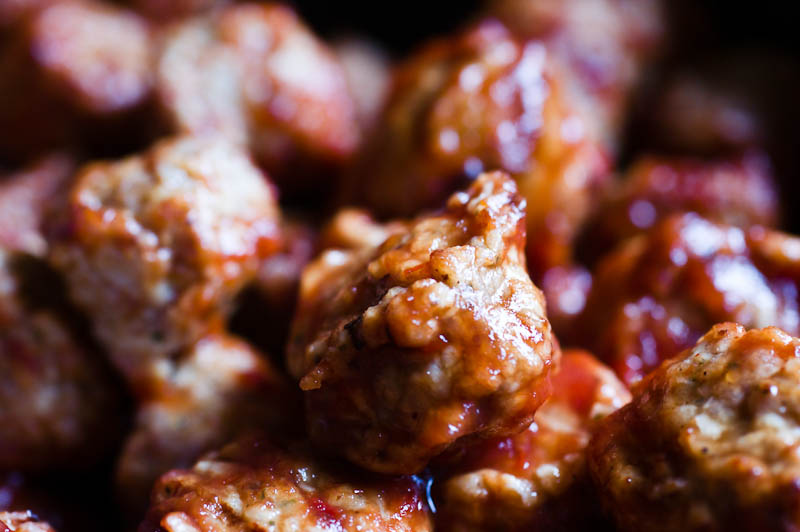meatballs: (286, 194, 533, 462), (59, 151, 281, 348), (399, 50, 616, 228), (623, 333, 800, 520)
